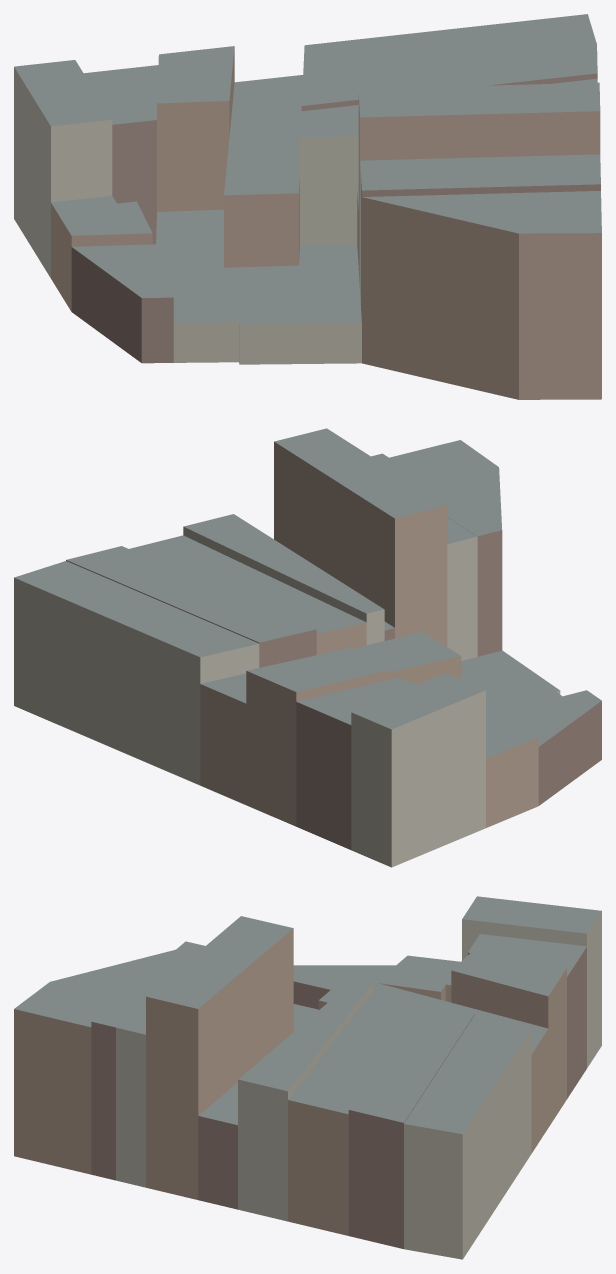
3 views of the same model, one above another, from view 1: azimuth 30°, elevation 25°; view 2: azimuth 150°, elevation 25°; view 3: azimuth 270°, elevation 25° (orthographic). The views are drawn at different scales.
Parts seen in each view (by area): view 1: C4; view 2: C4; view 3: C4.
Boxes of the visible parts, x1,y1,x2,y2 form: C4: [14, 14, 601, 399]; C4: [14, 428, 601, 867]; C4: [14, 896, 601, 1259].
Bounding box in the file's own units: 64.55 × 24.32 × 67.8.
